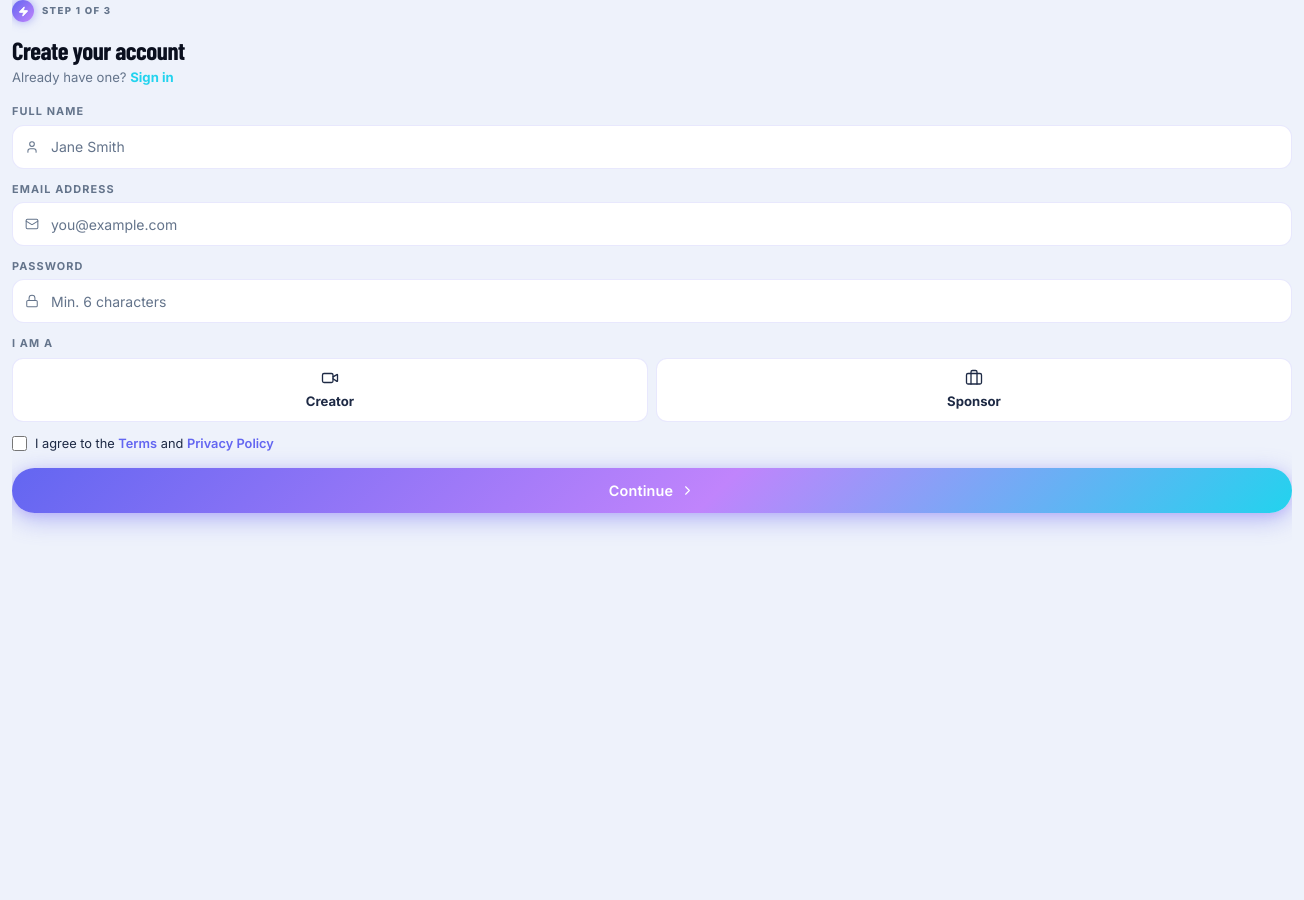
Test: SignUpStep1 › shows all errors when form is submitted empty
Click the button "Continue" at x=652, y=490, box x1=12 y1=468 x2=1292 y2=513
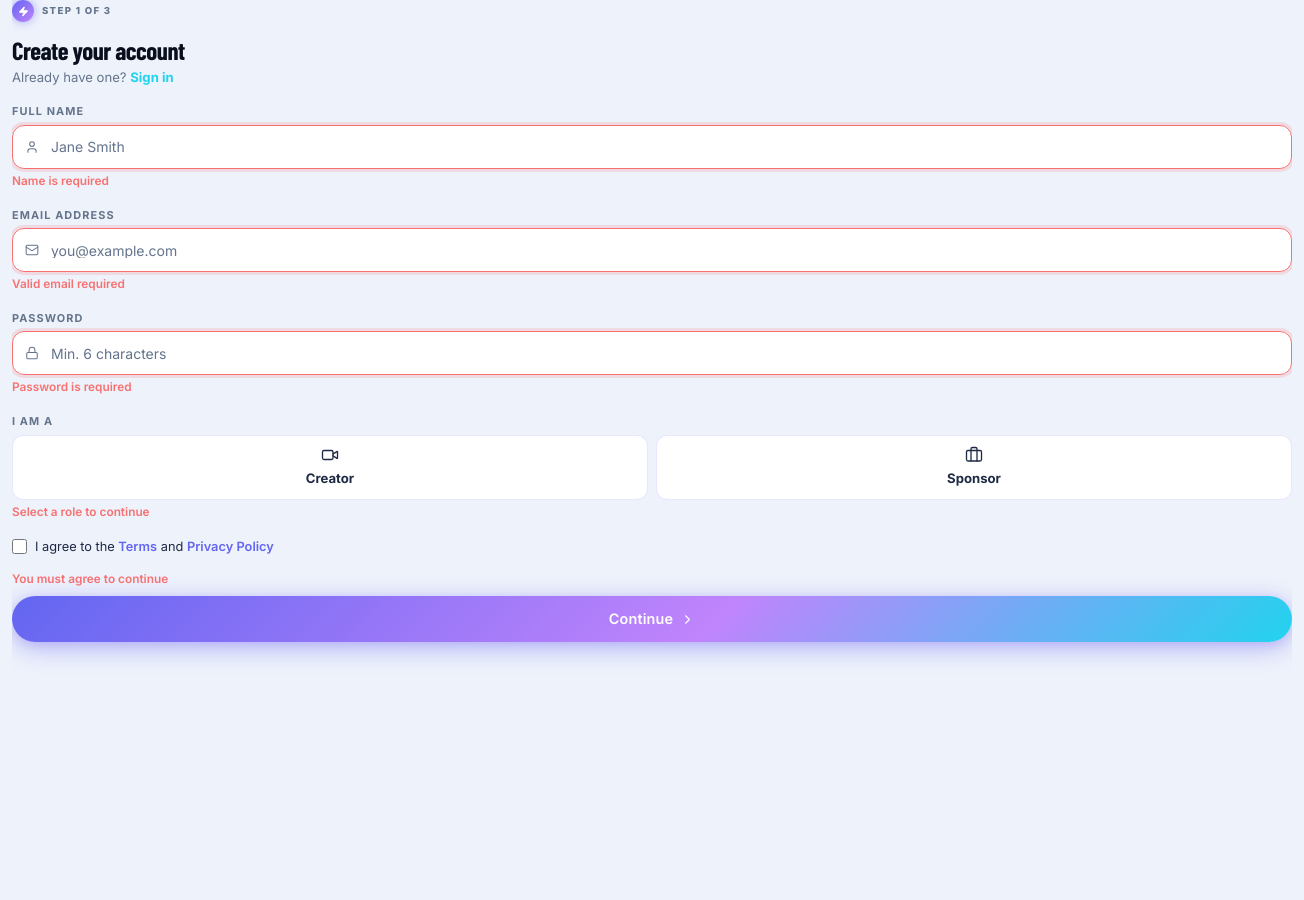
Expected: the text "Name is required" is shown, x1=12 y1=174 x2=109 y2=188
Expected: the text "Valid email required" is shown, x1=12 y1=277 x2=125 y2=291
Expected: the text "Password is required" is shown, x1=12 y1=380 x2=132 y2=394
